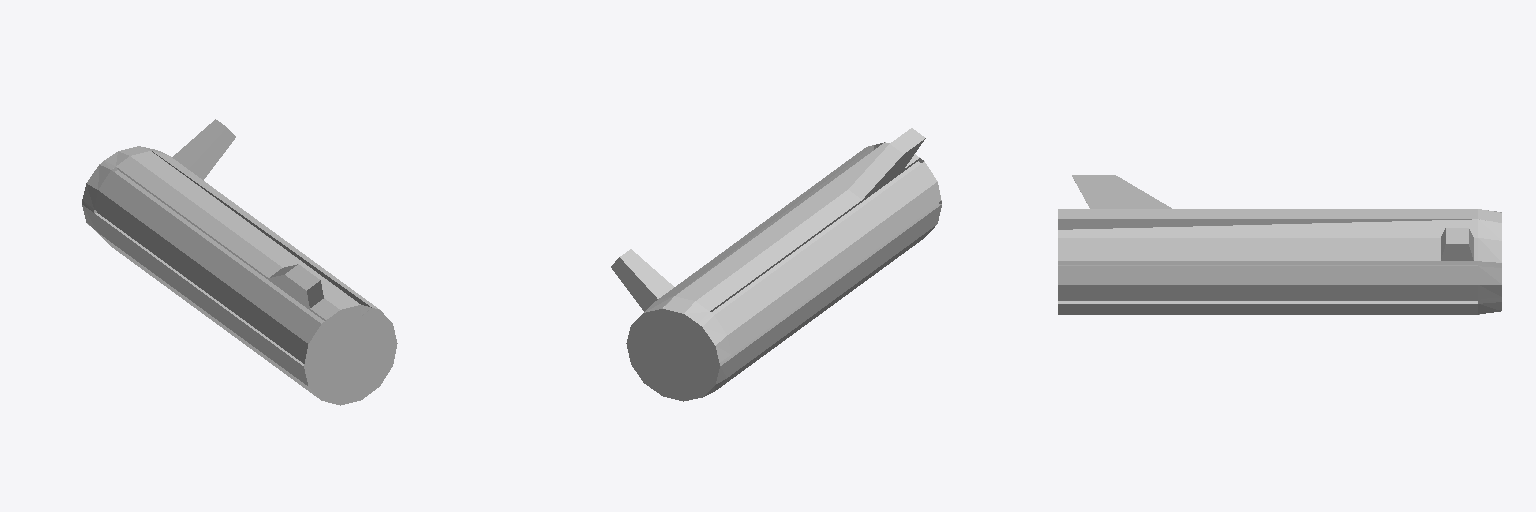
Rendered from stump.obj.
3 renders of one model, left to right at view 1: azimuth 30°, elevation 25°; view 2: azimuth 150°, elevation 25°; view 3: azimuth 270°, elevation 25°, orthographic.
Parts seen in each view (by area): view 1: pasted__pCylinder4 group70; view 2: pasted__pCylinder4 group70; view 3: pasted__pCylinder4 group70.
Part boxes in pixels (left/top/right/bottom): pasted__pCylinder4 group70: left=82, top=119, right=397, bottom=405; pasted__pCylinder4 group70: left=611, top=128, right=941, bottom=401; pasted__pCylinder4 group70: left=1058, top=175, right=1501, bottom=314.
Bounding box in the file's own units: 1.87 × 1.75 × 5.71.